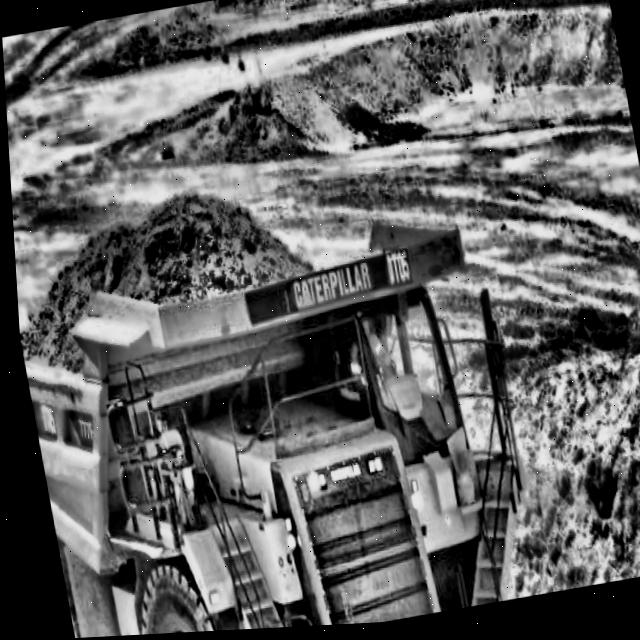dump_truck: (7, 139, 562, 640)
